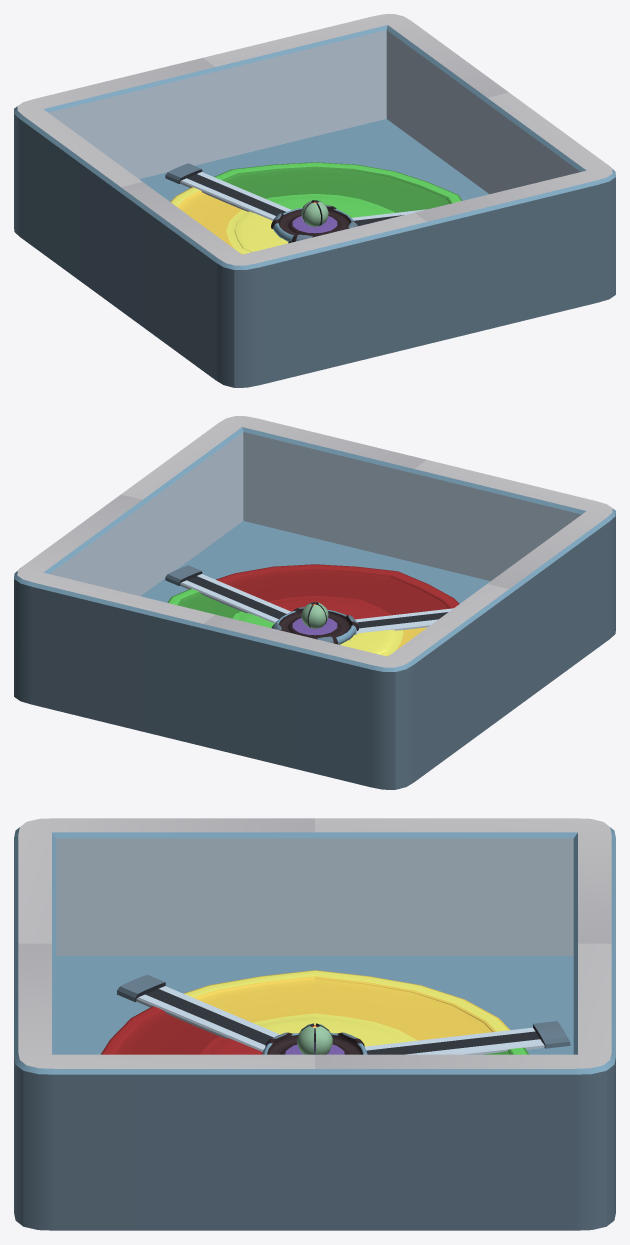
File: Scene_3_players.fbx
3 renders of one model, top to bottom at view 1: azimuth 30°, elevation 25°; view 2: azimuth 150°, elevation 25°; view 3: azimuth 270°, elevation 25°, orthographic. The views are drawn at different scales.
Parts seen in each view (by area): view 1: Cube_ref5 (×4), polySurface4 (×2), pCube4 (×2), pPlane3, circle_central, Ball; view 2: Cube_ref5 (×4), polySurface4 (×3), pCube4 (×2), pPlane3 (×2), circle_central, Ball; view 3: Cube_ref5 (×4), pCube4 (×2), polySurface4 (×2), pPlane3 (×2), circle_central, Ball.
Part boxes in pixels (x1,y1,x2,y2): Cube_ref5 (×4): [14, 14, 615, 387]; polySurface4 (×2): [170, 162, 457, 250]; pCube4 (×2): [139, 119, 483, 238]; pPlane3: [165, 163, 291, 220]; circle_central: [271, 205, 358, 242]; Ball: [301, 200, 328, 226]; Cube_ref5 (×4): [14, 416, 615, 789]; polySurface4 (×3): [167, 564, 459, 652]; pCube4 (×2): [146, 521, 490, 640]; pPlane3 (×2): [165, 565, 453, 634]; circle_central: [271, 607, 358, 644]; Ball: [301, 602, 328, 628]; Cube_ref5 (×4): [14, 818, 615, 1230]; pCube4 (×2): [56, 956, 573, 1054]; polySurface4 (×2): [101, 970, 528, 1054]; pPlane3 (×2): [116, 974, 570, 1054]; circle_central: [262, 1032, 367, 1054]; Ball: [297, 1023, 332, 1054].
Bounding box in the file's own units: 282 × 82.64 × 282.
